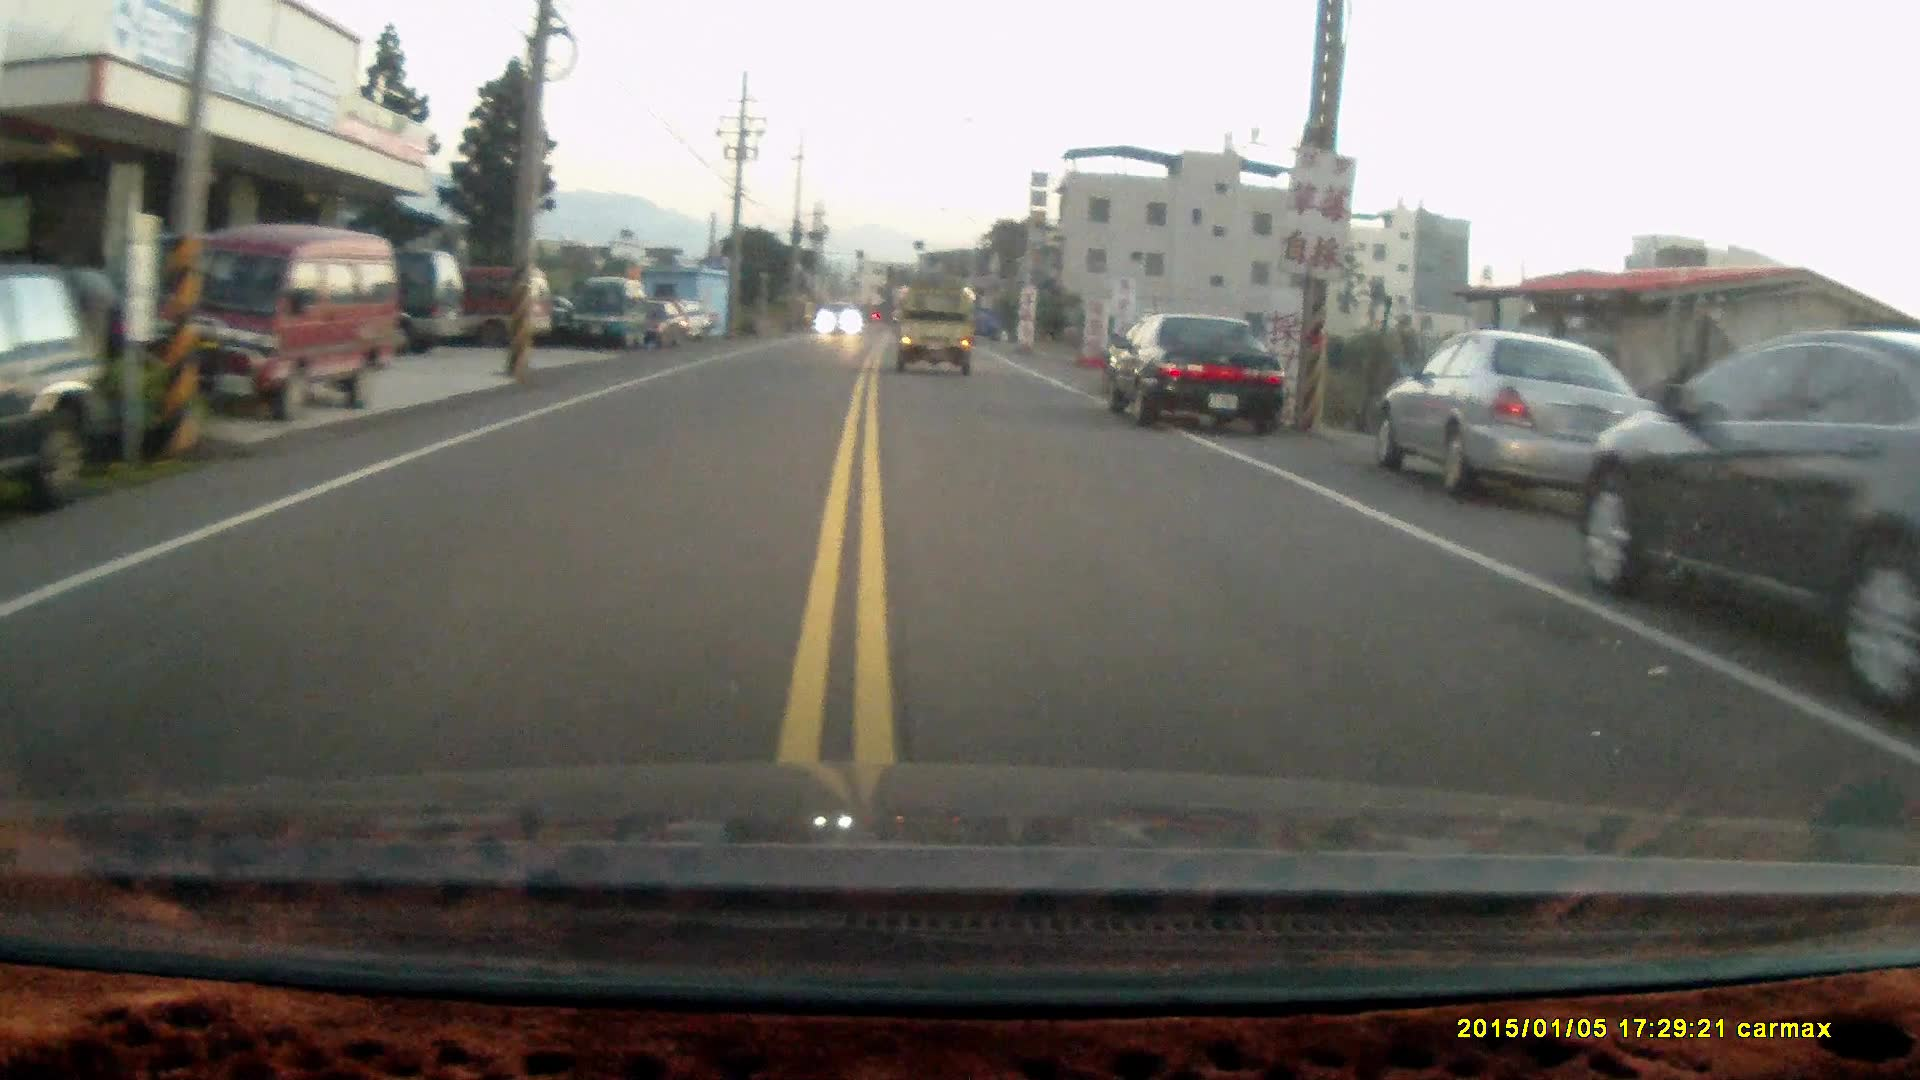vehicle: (1575, 338, 1920, 715), (129, 233, 393, 423), (1379, 335, 1667, 506), (1, 266, 111, 525), (1098, 313, 1284, 440), (265, 247, 472, 357), (388, 269, 555, 349), (891, 284, 975, 381), (571, 282, 649, 357)
